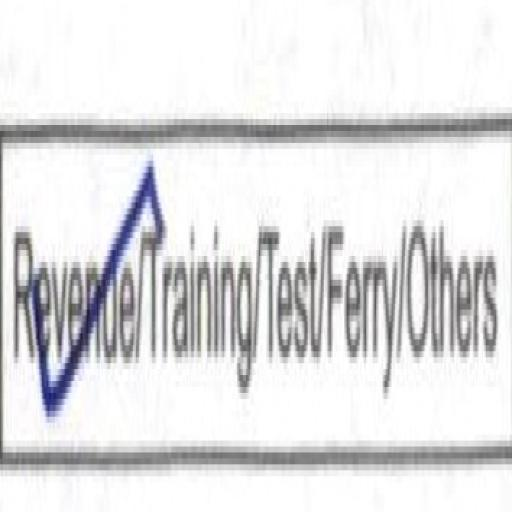check: (6, 102, 146, 500)
